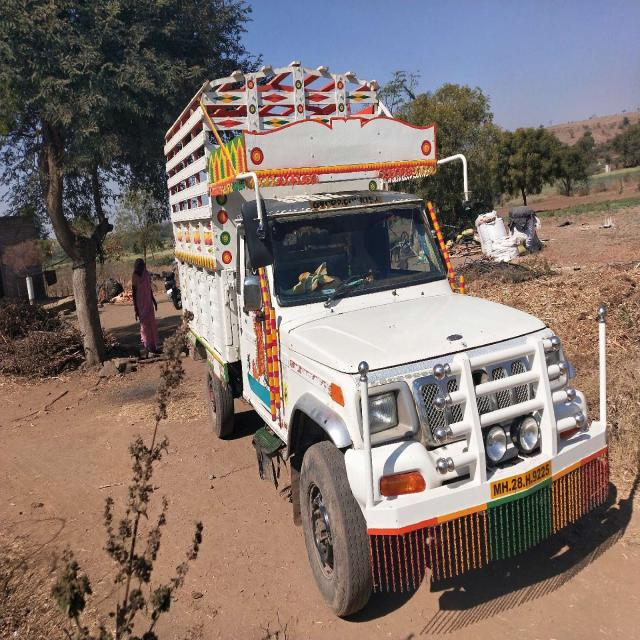light_vehicle: (202, 182, 604, 533)
